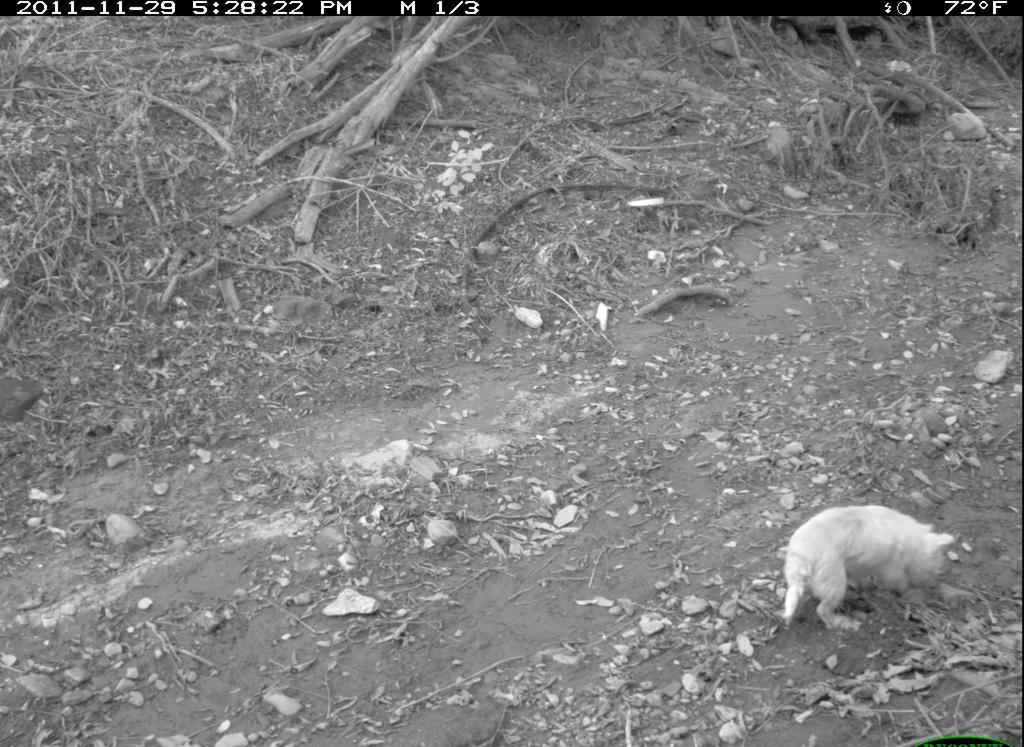dog: (767, 491, 958, 634)
